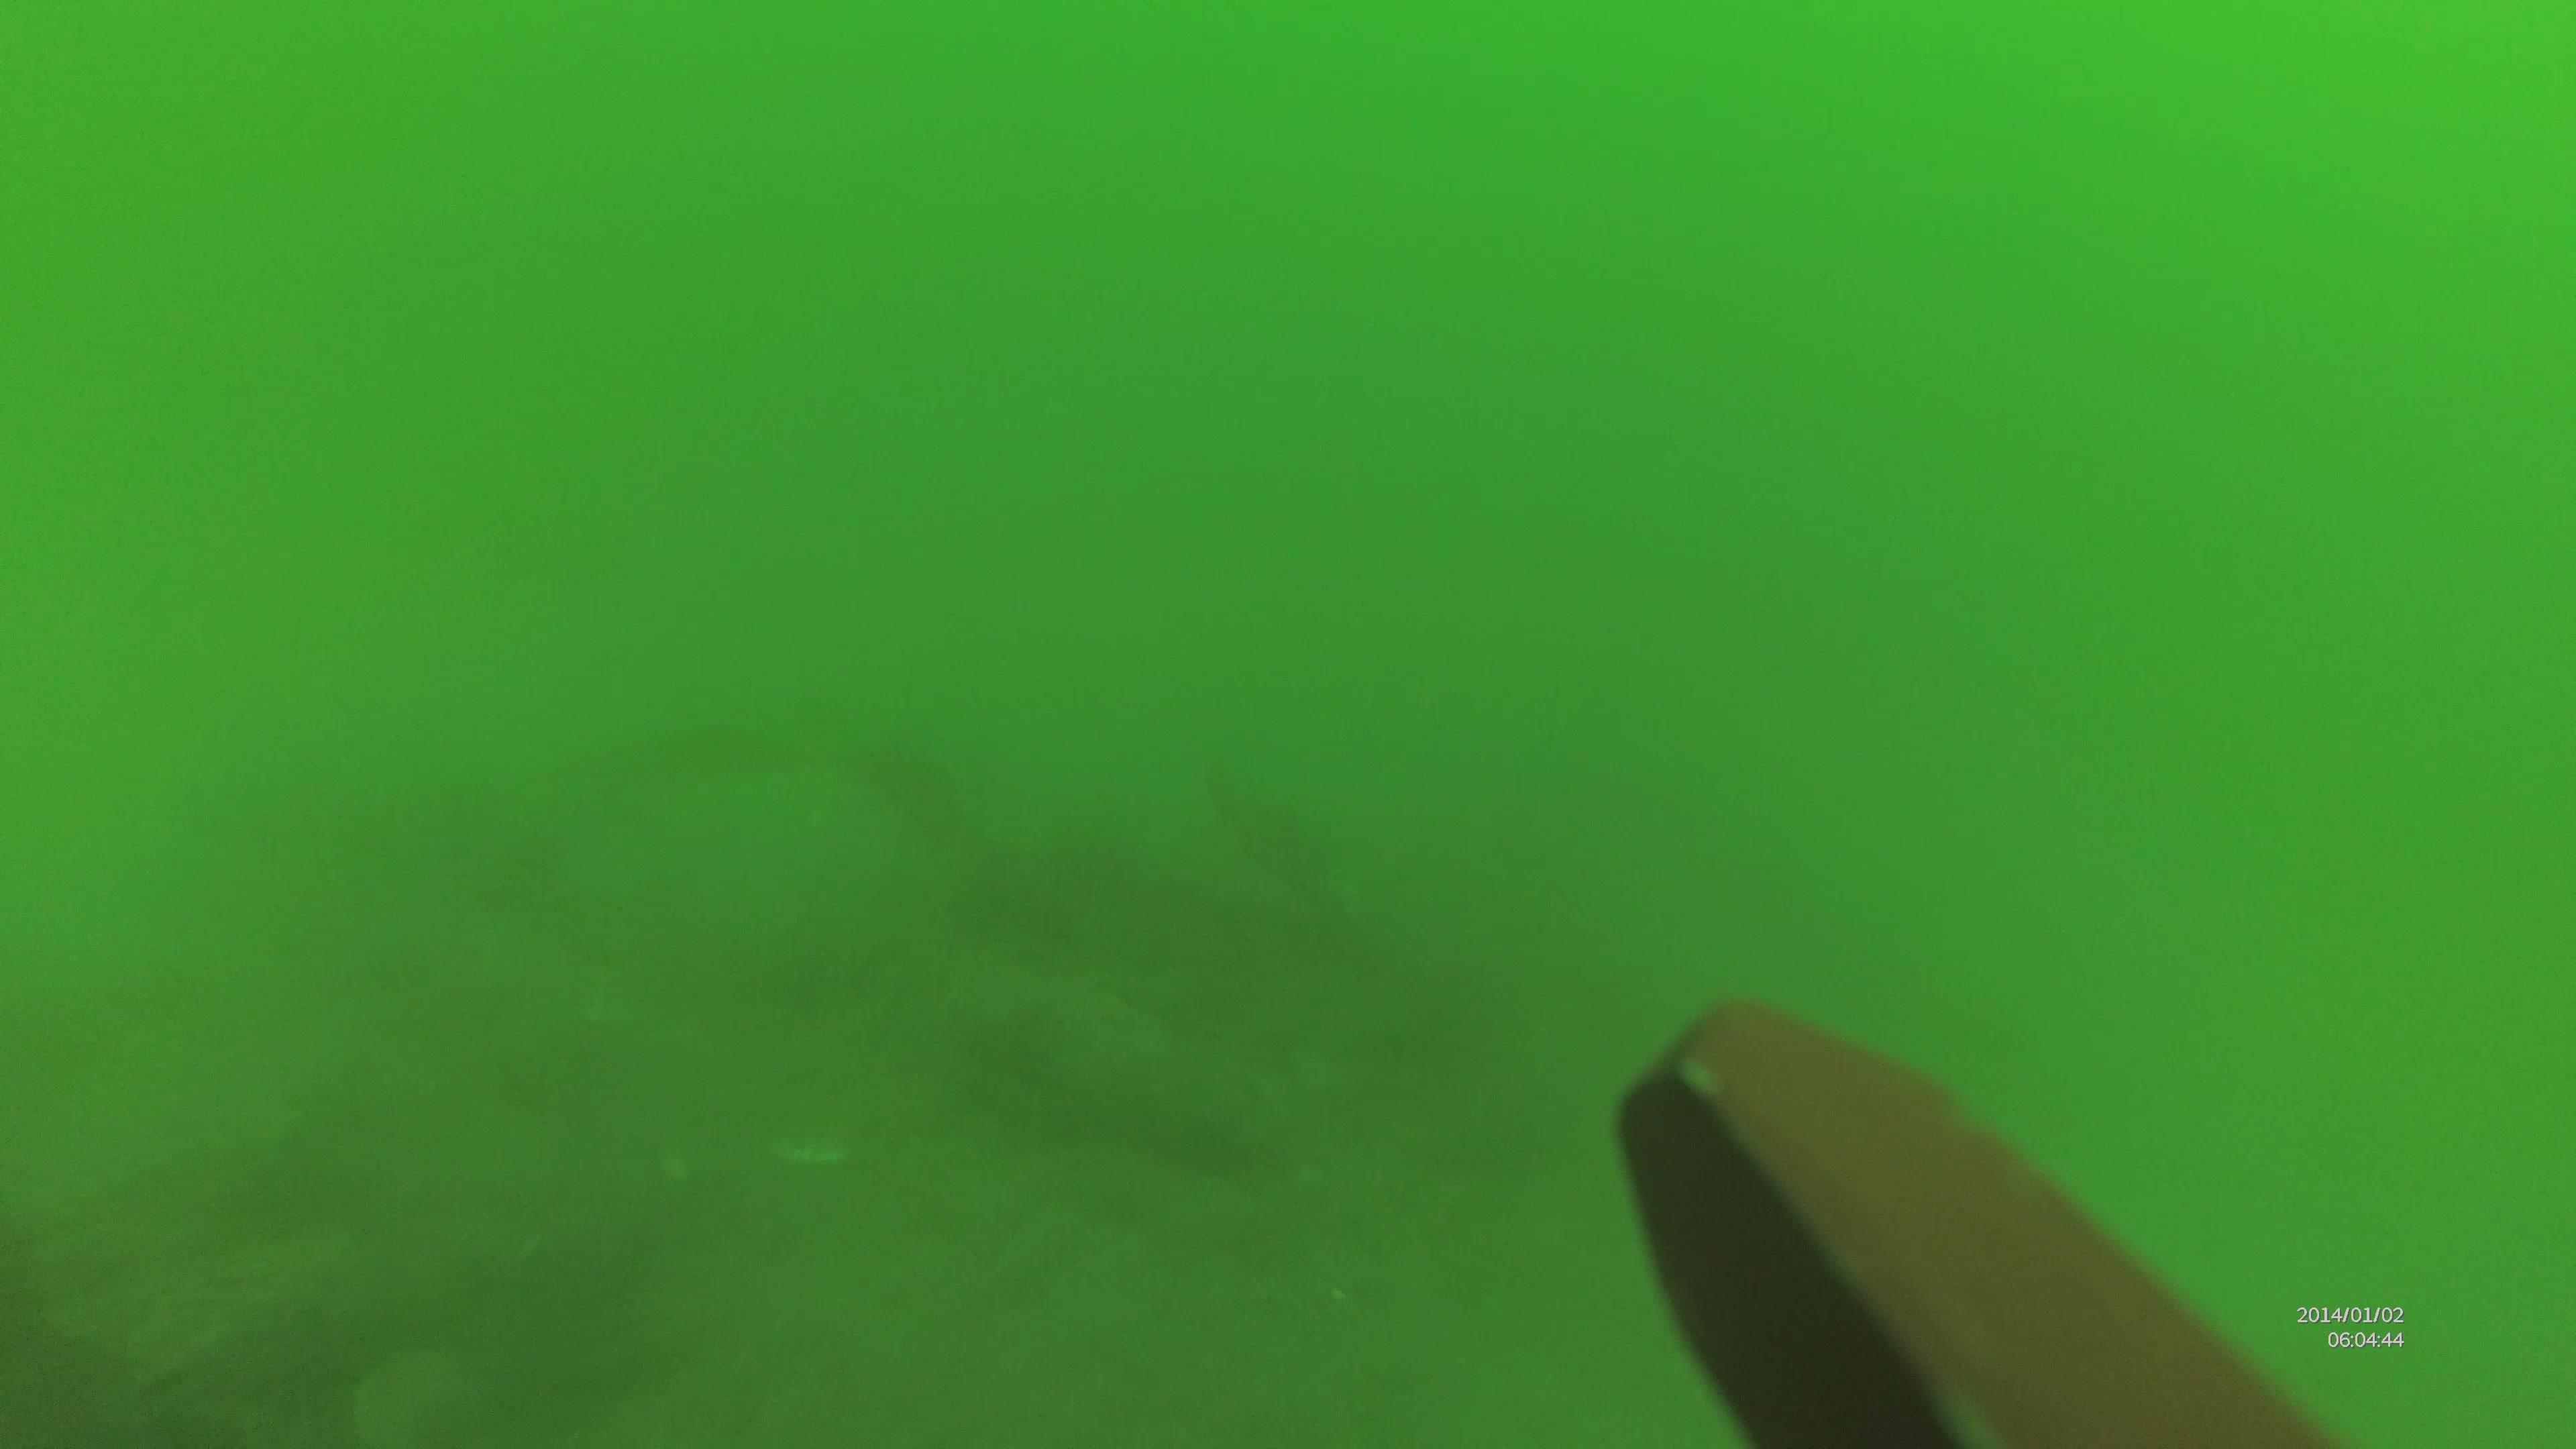scallop: (340, 1359, 511, 1449), (770, 1131, 849, 1173)
